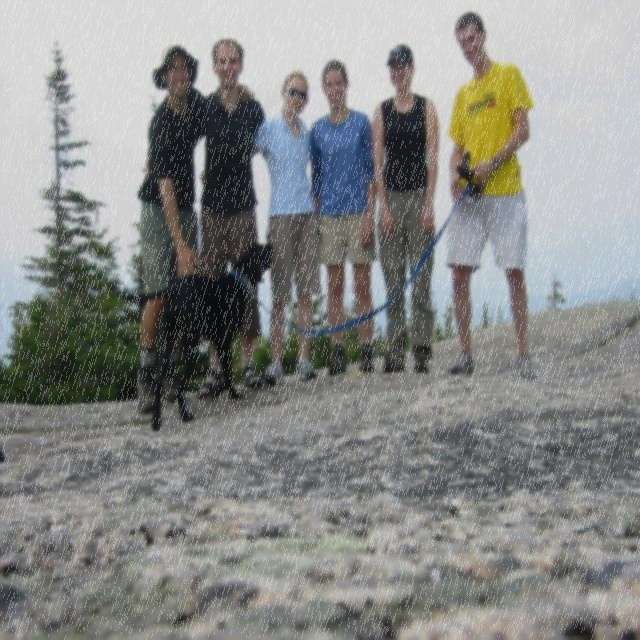pessoa: (132, 40, 256, 417), (144, 39, 266, 399), (200, 70, 322, 386), (442, 9, 540, 381), (370, 42, 442, 376), (308, 59, 378, 378)
